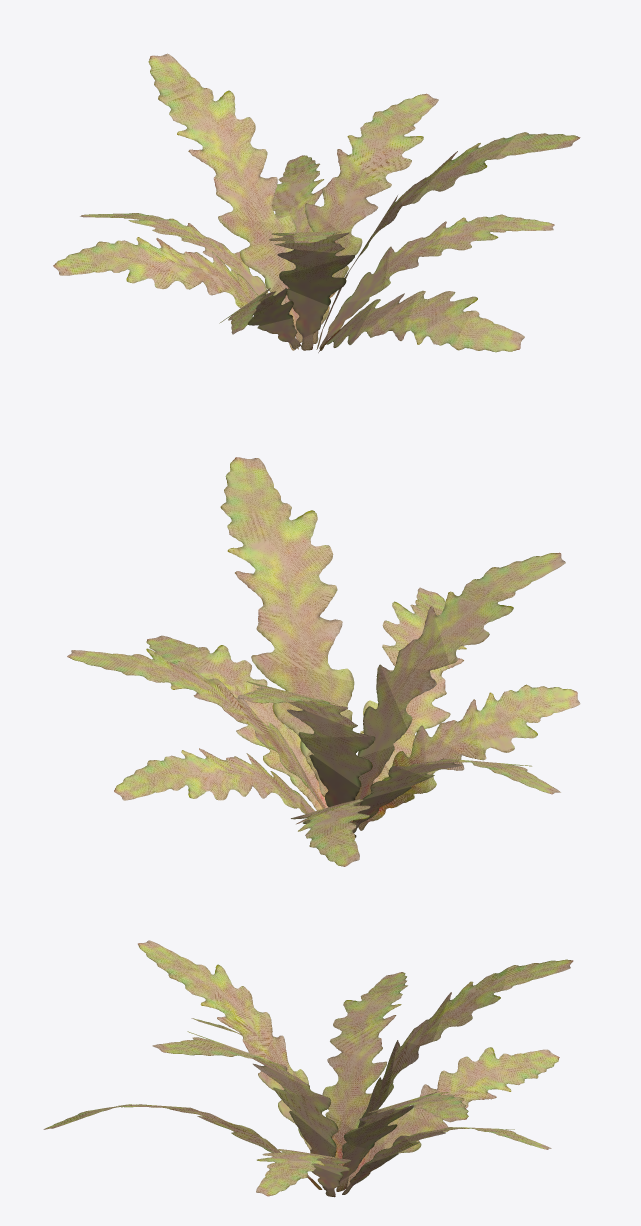
The model's file is Spindlewit A2.fbx.
The picture shows the model from 3 angles, top to bottom: view 1: azimuth 30°, elevation 25°; view 2: azimuth 150°, elevation 25°; view 3: azimuth 270°, elevation 25°; orthographic projection. The views are drawn at different scales.
Visible parts, largest first — view 1: Spindlewit A2; view 2: Spindlewit A2; view 3: Spindlewit A2.
Part boxes in pixels (<box>): Spindlewit A2: <box>53,53,580,352</box>; Spindlewit A2: <box>67,457,580,866</box>; Spindlewit A2: <box>43,940,573,1197</box>.
Bounding box in the file's own units: 118 × 57.68 × 125.
